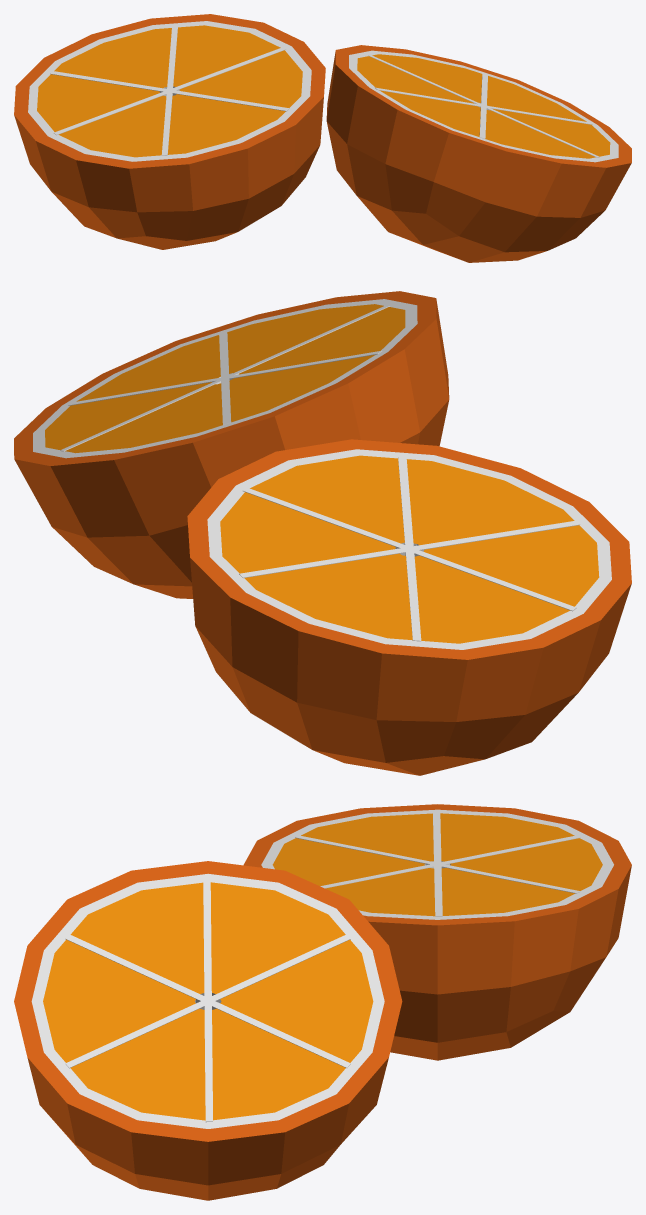
Rendered from Citrus Sliced.fbx.
3 views of the same model, one above another, from view 1: azimuth 30°, elevation 25°; view 2: azimuth 150°, elevation 25°; view 3: azimuth 270°, elevation 25° (orthographic). The views are drawn at different scales.
Visible parts, largest first — view 1: Citrus Sliced; view 2: Citrus Sliced; view 3: Citrus Sliced.
Part boxes in pixels (bbox=[...]): Citrus Sliced: bbox=[14, 14, 631, 262]; Citrus Sliced: bbox=[14, 291, 631, 775]; Citrus Sliced: bbox=[14, 804, 631, 1200].
Bounding box in the file's own units: 38.84 × 14.99 × 34.68.
